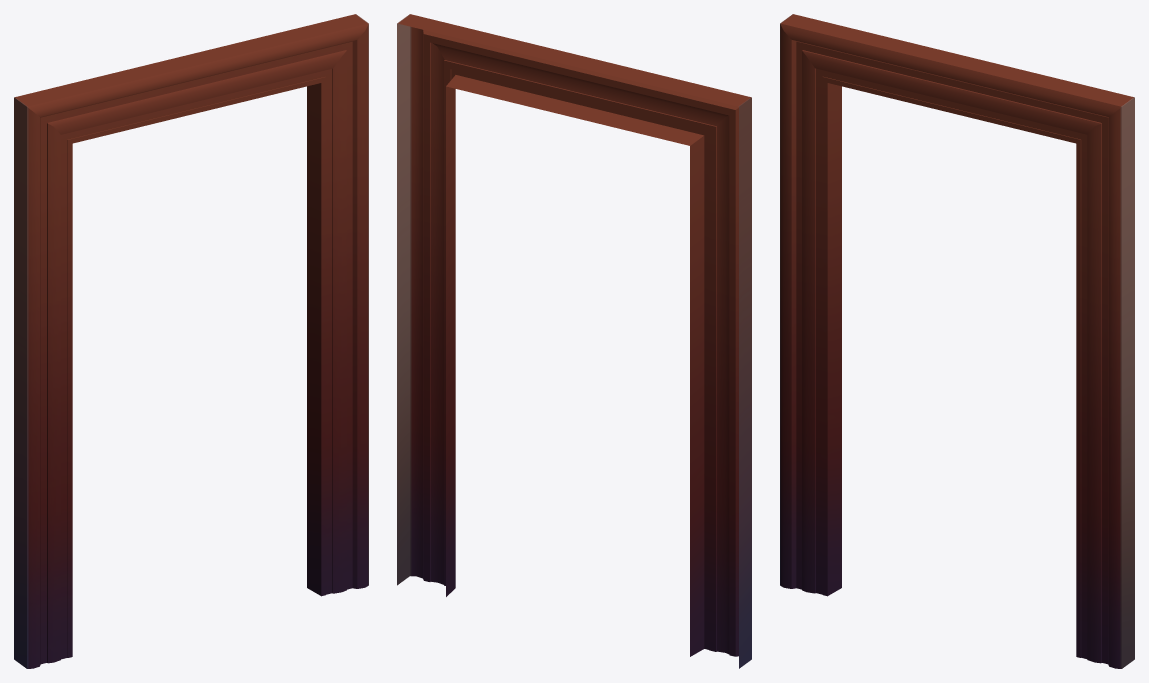
The model's file is P_DoorFrame.fbx.
3 renders of one model, left to right at view 1: azimuth 30°, elevation 25°; view 2: azimuth 150°, elevation 25°; view 3: azimuth 330°, elevation 25°, orthographic.
Visible parts, largest first — view 1: DoorFrame; view 2: DoorFrame; view 3: DoorFrame.
Boxes of the visible parts, <box> form: DoorFrame: <box>14,14,368,668</box>; DoorFrame: <box>397,14,751,668</box>; DoorFrame: <box>780,14,1134,668</box>.
Bounding box in the file's own units: 140 × 220 × 10.07.
